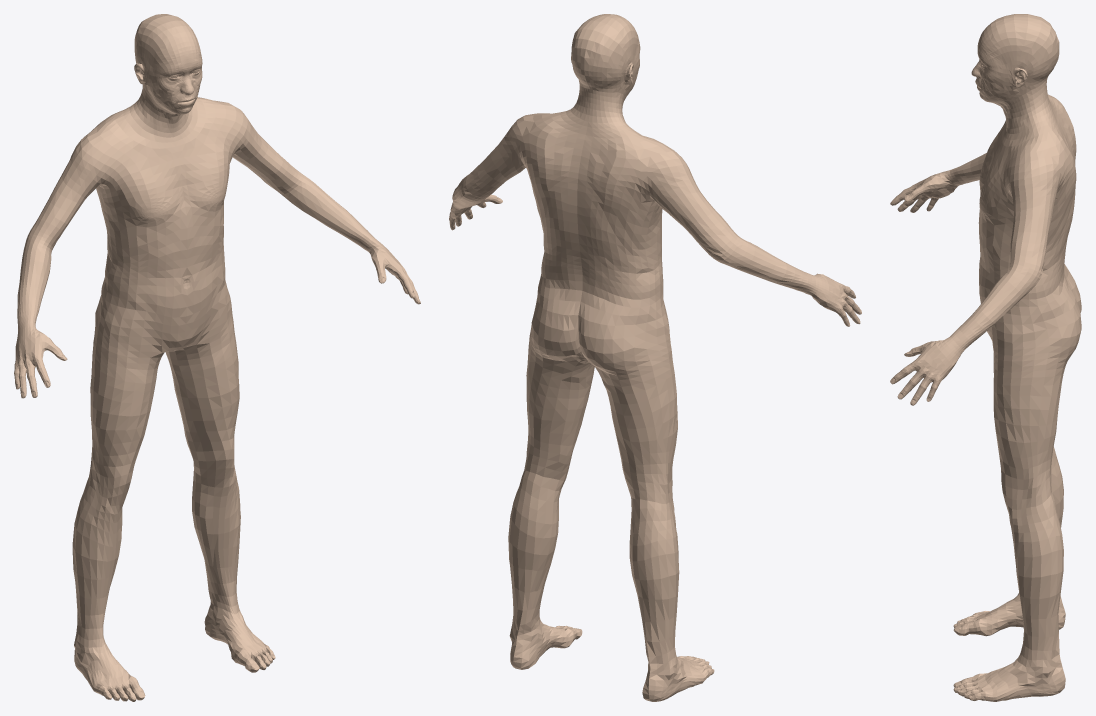
The model's file is male-mature-average-toned.glb.
3 renders of one model, left to right at view 1: azimuth 30°, elevation 25°; view 2: azimuth 150°, elevation 25°; view 3: azimuth 270°, elevation 25°, orthographic.
Visible parts, largest first — view 1: world; view 2: world; view 3: world.
Boxes of the visible parts, bbox=[...] form: world: bbox=[14, 14, 420, 701]; world: bbox=[449, 14, 861, 701]; world: bbox=[890, 14, 1081, 701].
Bounding box in the file's own units: 1.25 × 1.94 × 0.5215.
